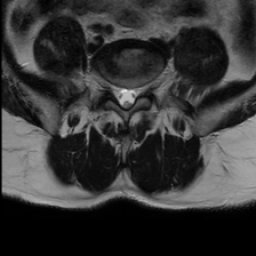CCS_normal: (121, 76, 129, 117)
LFS_normal: (137, 75, 146, 104)
LLS_normal: (129, 80, 137, 112)
RFS_normal: (105, 72, 113, 100)
RLS_normal: (113, 76, 121, 112)
